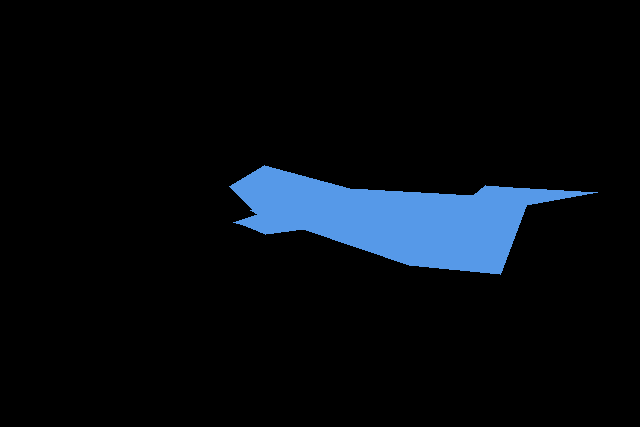Airplane: (229, 165, 598, 275)
